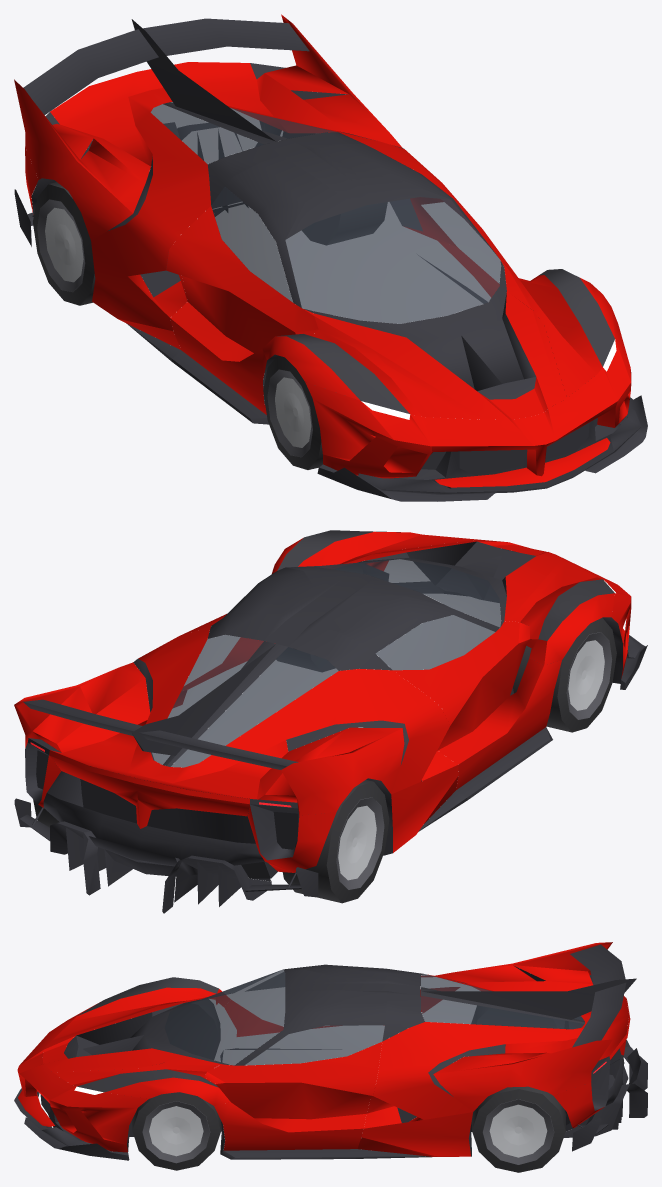
The model's file is ferrari.glb.
3 views of the same model, one above another, from view 1: azimuth 30°, elevation 25°; view 2: azimuth 150°, elevation 25°; view 3: azimuth 270°, elevation 25° (orthographic). The views are drawn at different scales.
Parts seen in each view (by area): view 1: paint, body, glass, trim, tyre_RR, tyre_RL, rim_metal_RR, rim_metal_FR, tyre_FR, rim_dark_RR, rim_dark_FR; view 2: paint, body, glass, tyre_RR, trim, tyre_FR, rim_metal_RR, rim_metal_FR, rim_dark_RR, rim_dark_FR, tyre_FL; view 3: paint, body, glass, tyre_RL, tyre_FR, tyre_FL, trim, rim_metal_RL, rim_metal_FL, rim_dark_RL, rim_dark_FL, tyre_RR.
Part boxes in pixels (box(x1,y1,x2,y2)): paint: box(14, 14, 631, 487); body: box(14, 18, 647, 501); glass: box(150, 102, 501, 323); trim: box(277, 269, 614, 413); tyre_RR: box(33, 182, 95, 305); tyre_RL: box(283, 133, 387, 245); rim_metal_RR: box(45, 207, 83, 282); rim_metal_FR: box(275, 377, 311, 447); tyre_FR: box(263, 355, 322, 469); rim_dark_RR: box(37, 199, 85, 292); rim_dark_FR: box(267, 369, 312, 457); paint: box(14, 531, 631, 872); body: box(14, 541, 647, 913); glass: box(151, 559, 501, 767); tyre_RR: box(282, 780, 389, 903); trim: box(277, 530, 614, 640); tyre_FR: box(513, 618, 616, 732); rim_metal_RR: box(338, 805, 376, 880); rim_metal_FR: box(568, 640, 604, 710); rim_dark_RR: box(336, 797, 384, 890); rim_dark_FR: box(566, 632, 612, 719); tyre_FL: box(276, 565, 362, 671); paint: box(17, 942, 630, 1156); body: box(14, 944, 647, 1160); glass: box(164, 969, 584, 1065); tyre_RL: box(471, 1086, 566, 1172); tyre_FR: box(165, 999, 220, 1059); tyre_FL: box(132, 1092, 221, 1170); trim: box(77, 977, 218, 1092); rim_metal_RL: box(489, 1104, 547, 1157); rim_metal_FL: box(149, 1106, 203, 1156); rim_dark_RL: box(482, 1099, 554, 1165); rim_dark_FL: box(142, 1101, 210, 1163); tyre_RR: box(471, 1005, 556, 1045).
Bounding box in the file's own units: 2.04 × 1.2 × 4.88.
